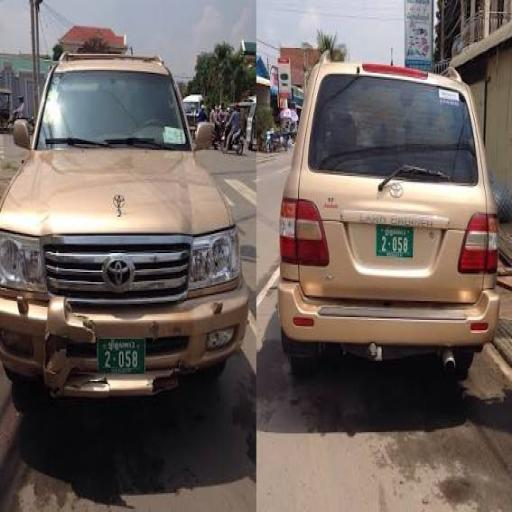Plate Number: (96, 336, 146, 373), (378, 223, 414, 257)
